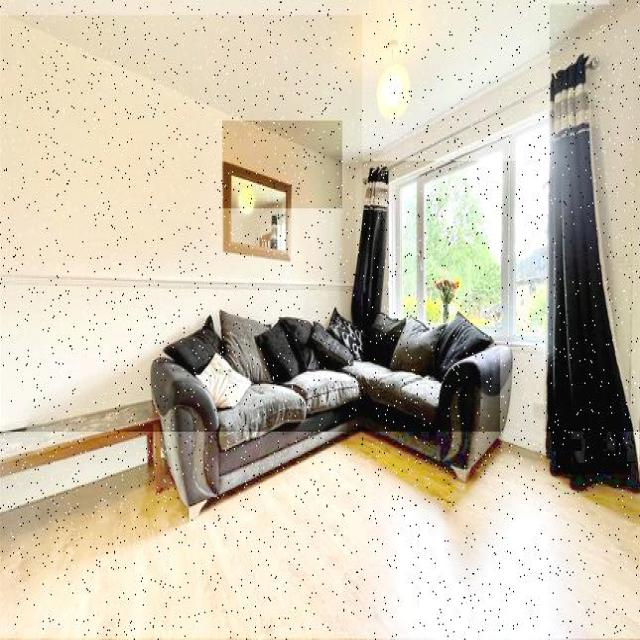Wall: (0, 15, 362, 430), (0, 433, 640, 639), (0, 1, 609, 161), (550, 5, 640, 457), (0, 440, 146, 512), (223, 122, 342, 208), (501, 347, 546, 454)
